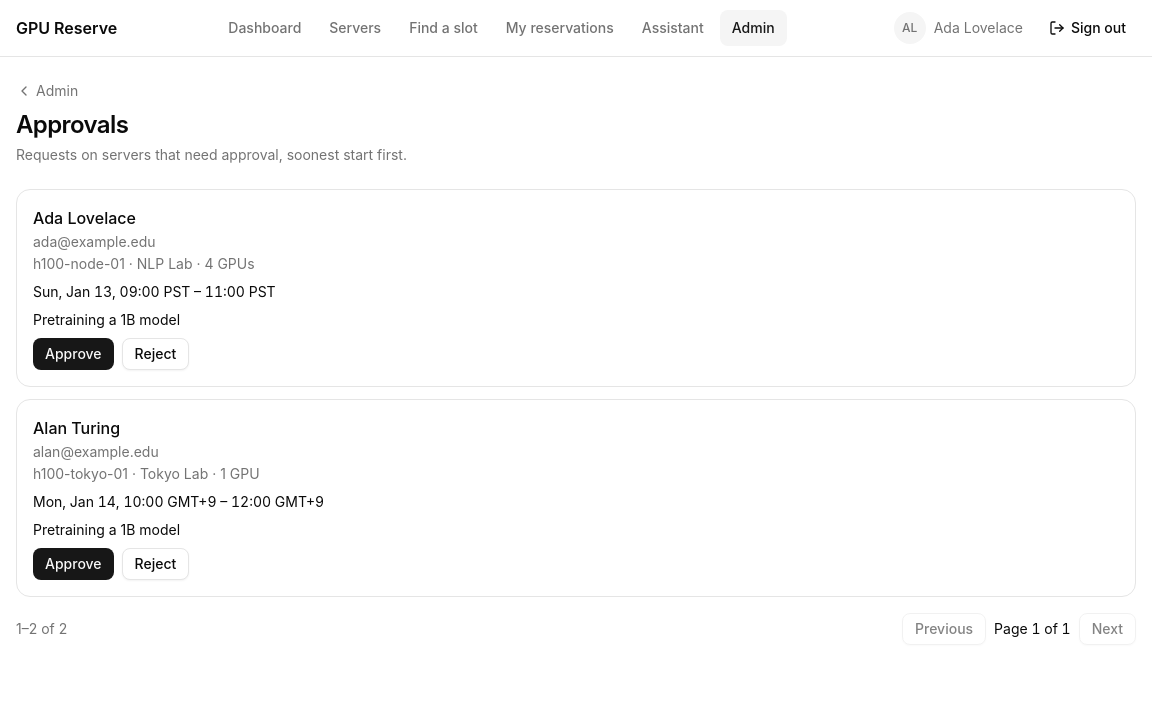
Test: approval queue › approves a request and refreshes the queue
What coordinates should you click on to do the following:
click the button "Approve" below "ada@example.edu"
I would click on:
 (73, 354)
Its box is [33,338,114,370].
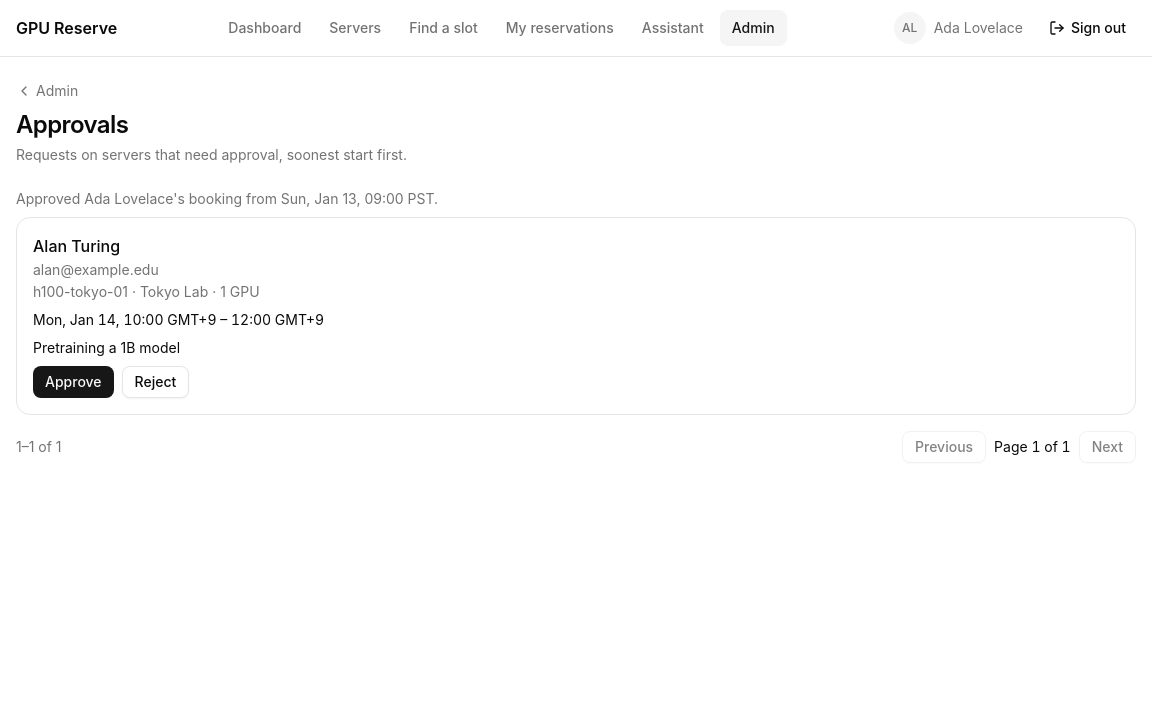
expect the text "Approved Ada Lovelace's booking from Sun, Jan 13, 09:00 PST." is shown: met, box [16,190,438,207]
